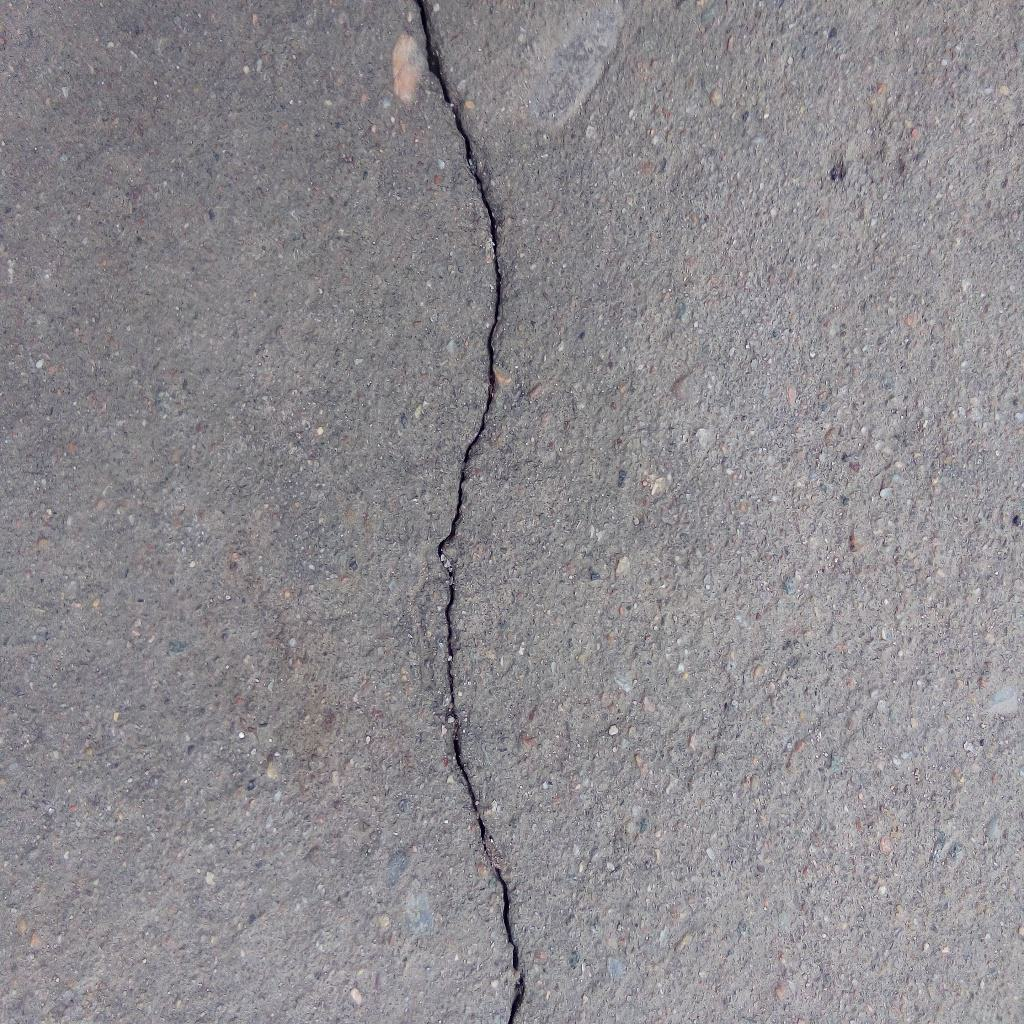Crack: (413, 1, 527, 1024)
